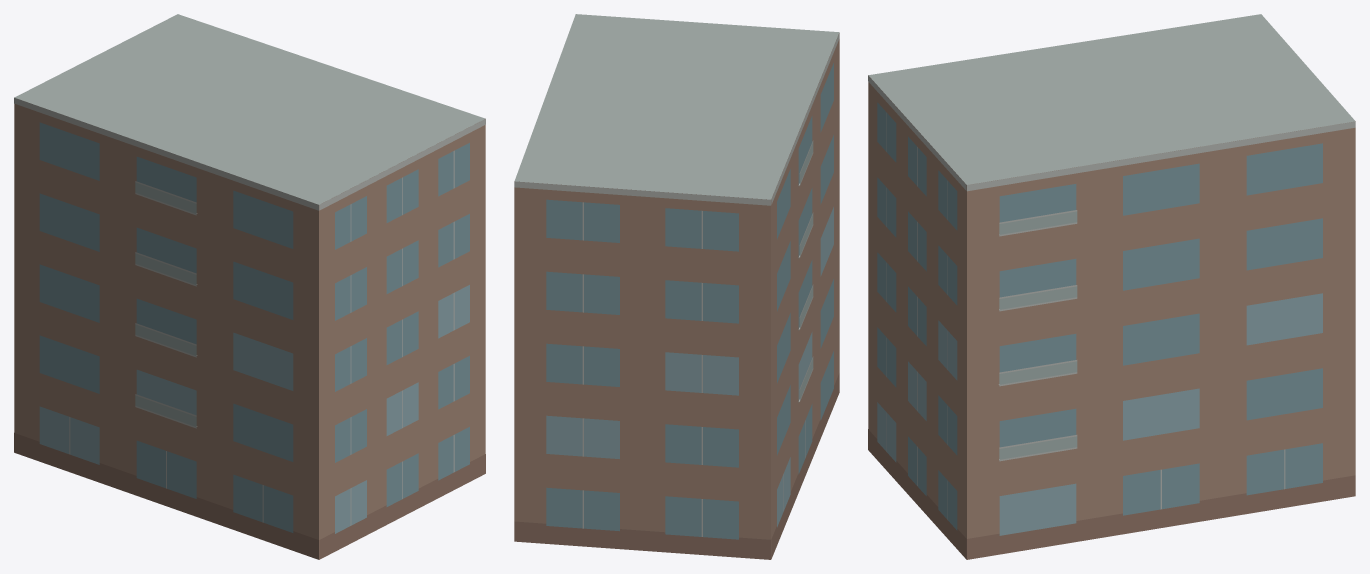
The model's file is survey-upis-32884320.glb.
3 views of the same model, side by side, from view 1: azimuth 30°, elevation 25°; view 2: azimuth 150°, elevation 25°; view 3: azimuth 270°, elevation 25° (orthographic). The views are drawn at different scales.
Parts seen in each view (by area): view 1: survey-upis-32884320.tmp; view 2: survey-upis-32884320.tmp; view 3: survey-upis-32884320.tmp.
Part boxes in pixels (x1=…): survey-upis-32884320.tmp: x1=14, y1=14, x2=485, y2=559; survey-upis-32884320.tmp: x1=514, y1=14, x2=839, y2=559; survey-upis-32884320.tmp: x1=868, y1=14, x2=1355, y2=559.
Bounding box in the file's own units: 14.25 × 14.55 × 17.16.
